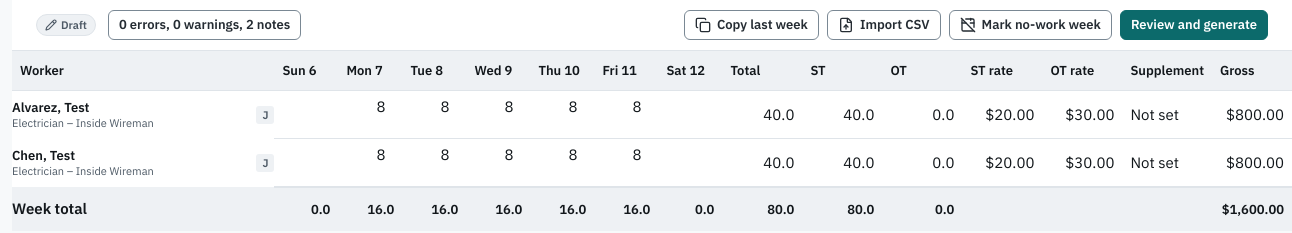
Test: a cell › keeps what was typed and says so when it cannot be read
Replace the text in the field named "Hours for Alvarez, Test on 2026-09-07" with "eight" at (370, 106), box left=346, top=92, right=394, bottom=120
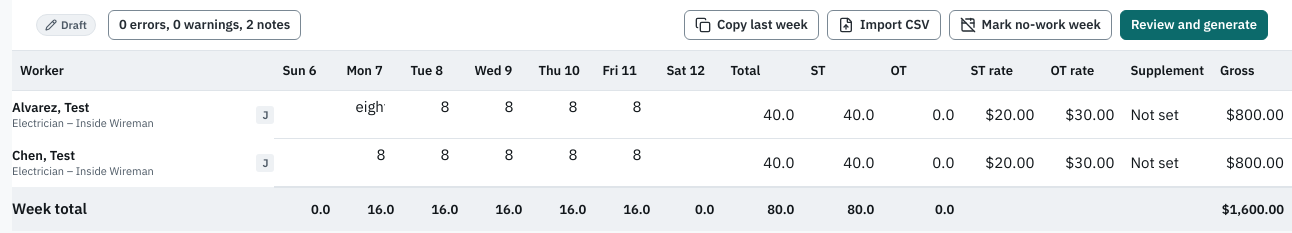
Leave the field named "Hours for Alvarez, Test on 2026-09-07", box left=346, top=92, right=394, bottom=120
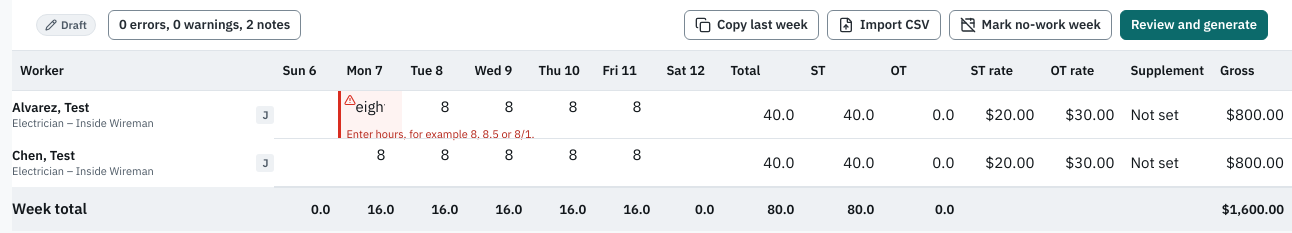
Now the text "Enter hours, for example 8, 8.5 or 8/1." is shown, box left=338, top=128, right=402, bottom=140
